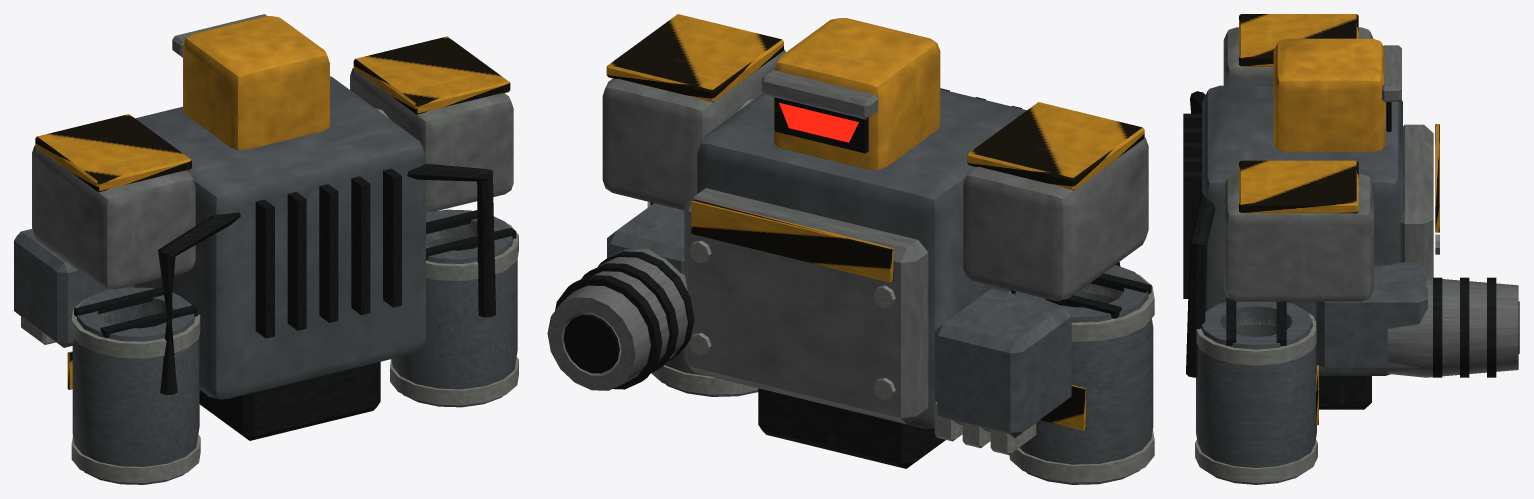
File: heavy_guardian.glb
The picture shows the model from 3 angles, left to right: view 1: azimuth 30°, elevation 25°; view 2: azimuth 150°, elevation 25°; view 3: azimuth 270°, elevation 25°; orthographic projection. The views are drawn at different scales.
Parts seen in each view (by area): view 1: ChassisMesh, PropulsionLeftMesh, PropulsionRightMesh, OpticsMesh; view 2: ChassisMesh, OpticsMesh, PropulsionLeftMesh, WeaponMesh, PropulsionRightMesh; view 3: ChassisMesh, PropulsionRightMesh, WeaponMesh, OpticsMesh.
Boxes of the visible parts, x1,y1,x2,y2 form: ChassisMesh: (14, 36, 513, 440); PropulsionLeftMesh: (67, 212, 240, 484); PropulsionRightMesh: (390, 163, 518, 407); OpticsMesh: (172, 14, 329, 149); ChassisMesh: (602, 14, 1148, 468); OpticsMesh: (761, 18, 940, 169); PropulsionLeftMesh: (1009, 262, 1154, 484); WeaponMesh: (547, 203, 694, 390); PropulsionRightMesh: (647, 201, 758, 396); ChassisMesh: (1183, 14, 1439, 409); PropulsionRightMesh: (1186, 191, 1318, 484); WeaponMesh: (1316, 262, 1519, 377); OpticsMesh: (1273, 38, 1401, 151).
Size of the model in its own units: 1.07 by 0.836 by 0.7682.
3 materials, 1 textured.
